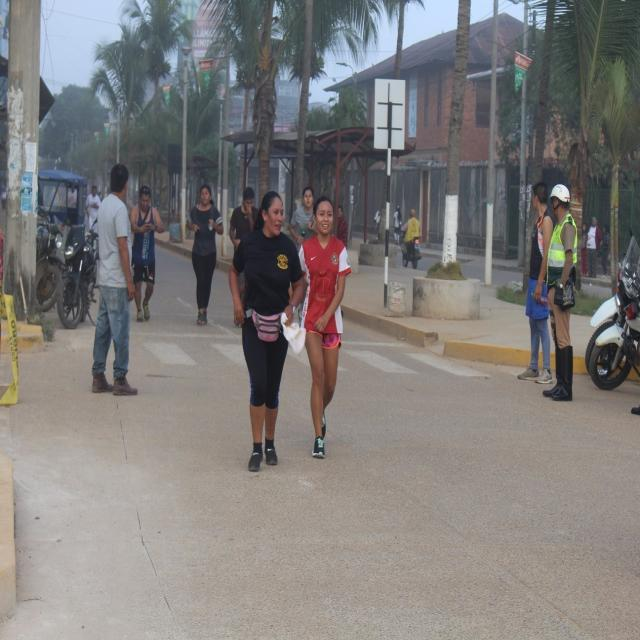gun: (211, 170, 311, 489), (295, 180, 367, 472), (79, 163, 140, 391), (542, 178, 586, 413), (514, 163, 556, 396), (173, 156, 228, 330), (126, 144, 168, 332)
